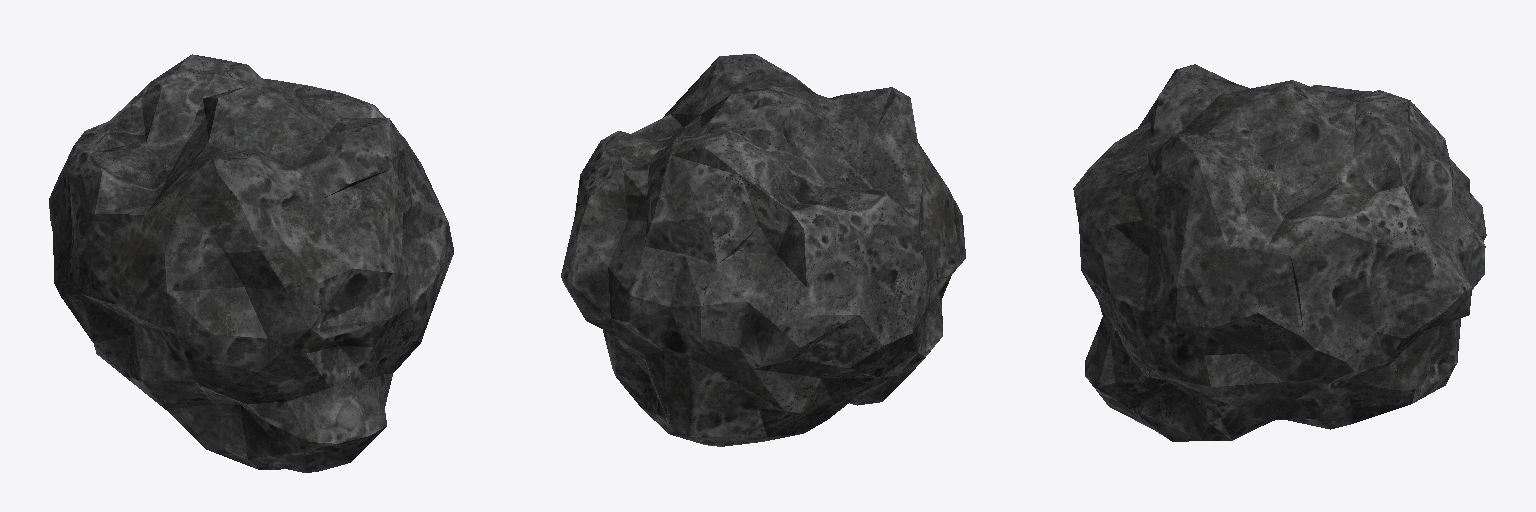
The picture shows the model from 3 angles: view 1: azimuth 30°, elevation 25°; view 2: azimuth 150°, elevation 25°; view 3: azimuth 270°, elevation 25°; orthographic projection.
Visible parts, largest first — view 1: Asteroid; view 2: Asteroid; view 3: Asteroid.
Part boxes in pixels (x1,y1,x2,y2): Asteroid: (49, 54, 453, 472); Asteroid: (561, 54, 965, 446); Asteroid: (1073, 64, 1486, 441).
Size of the model in its own units: 125 by 118 by 132.
1 materials, 1 textured.